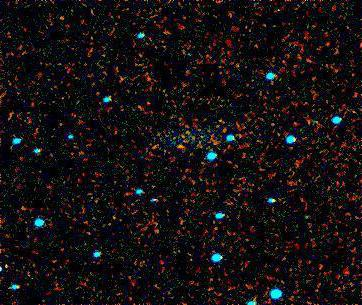star: (166, 131, 196, 161)
